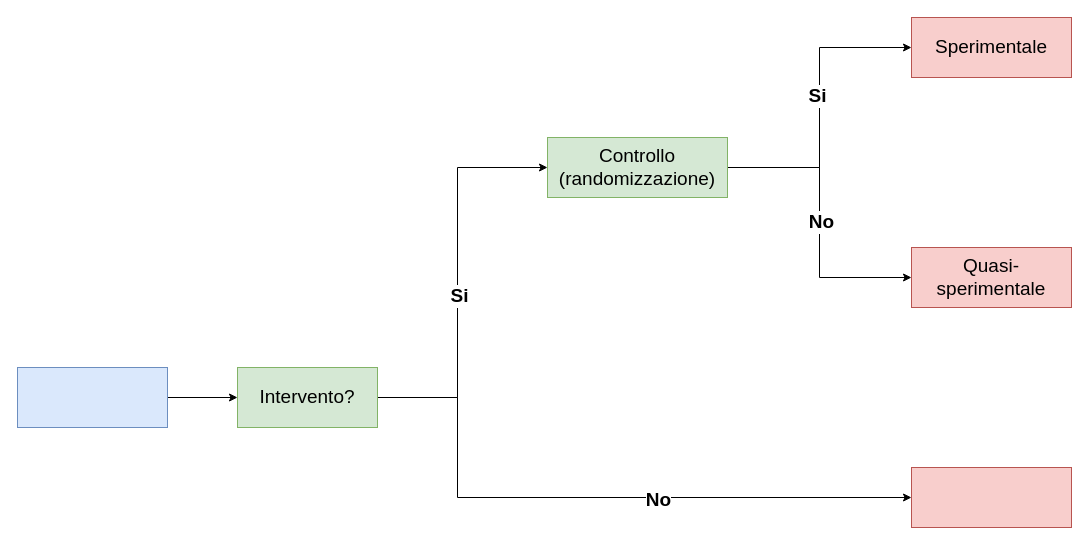
Some shapes in this 1089 by 545 pixel diagram are drawn without their labels. The box of each missing label's shape, as (x1, y1, x2, y2) in pixels:
Disegno di ricerca: (16, 366, 168, 428)
Osservazionale: (910, 466, 1072, 528)
